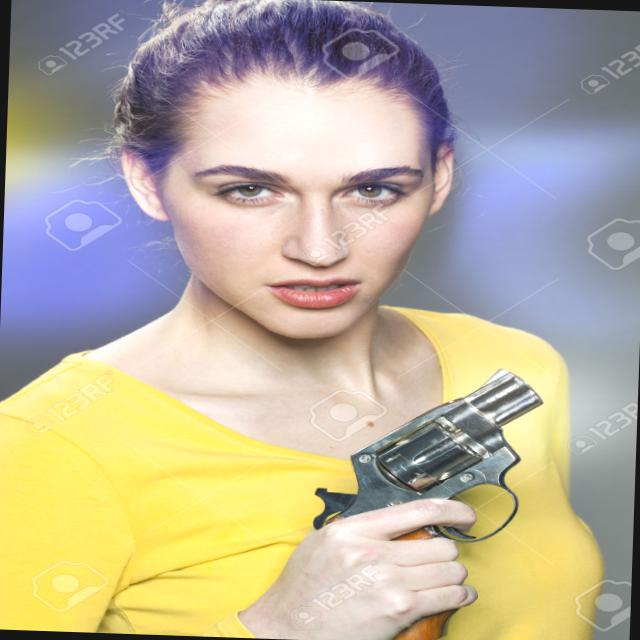handgun: (308, 366, 548, 546)
